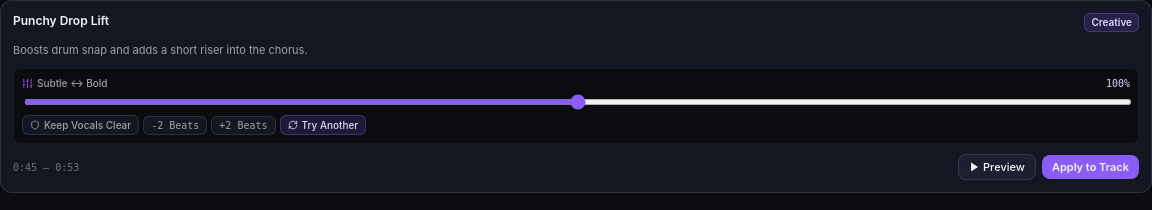
it: ProposalCard › commits Subtle↔Bold slider on pointerUp/keyUp and reverts on tune failure
Set the slider named "subtle to bold" to "1.45" at x=906, y=102, box [24,99,1132,105]
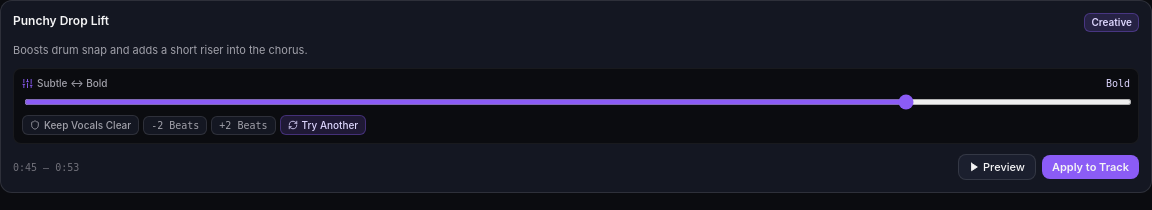
Set the slider named "subtle to bold" to "0.4" at x=141, y=102, box [24,99,1132,105]
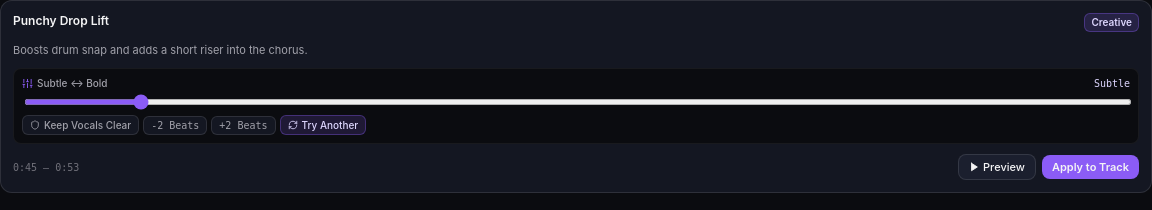
Press ArrowLeft in the slider named "subtle to bold", box [24,99,1132,105]
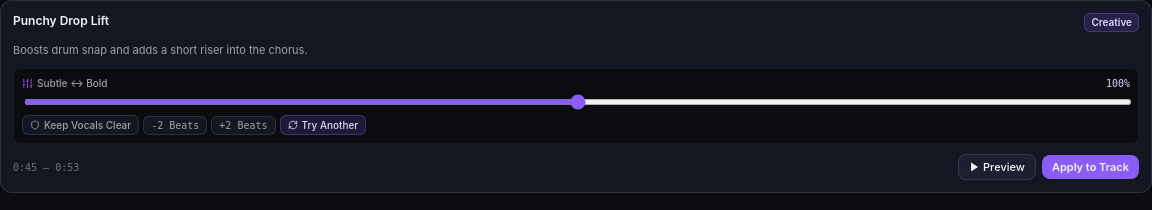
Result: the slider named "subtle to bold" holds "1" at [24,99,1132,105]
